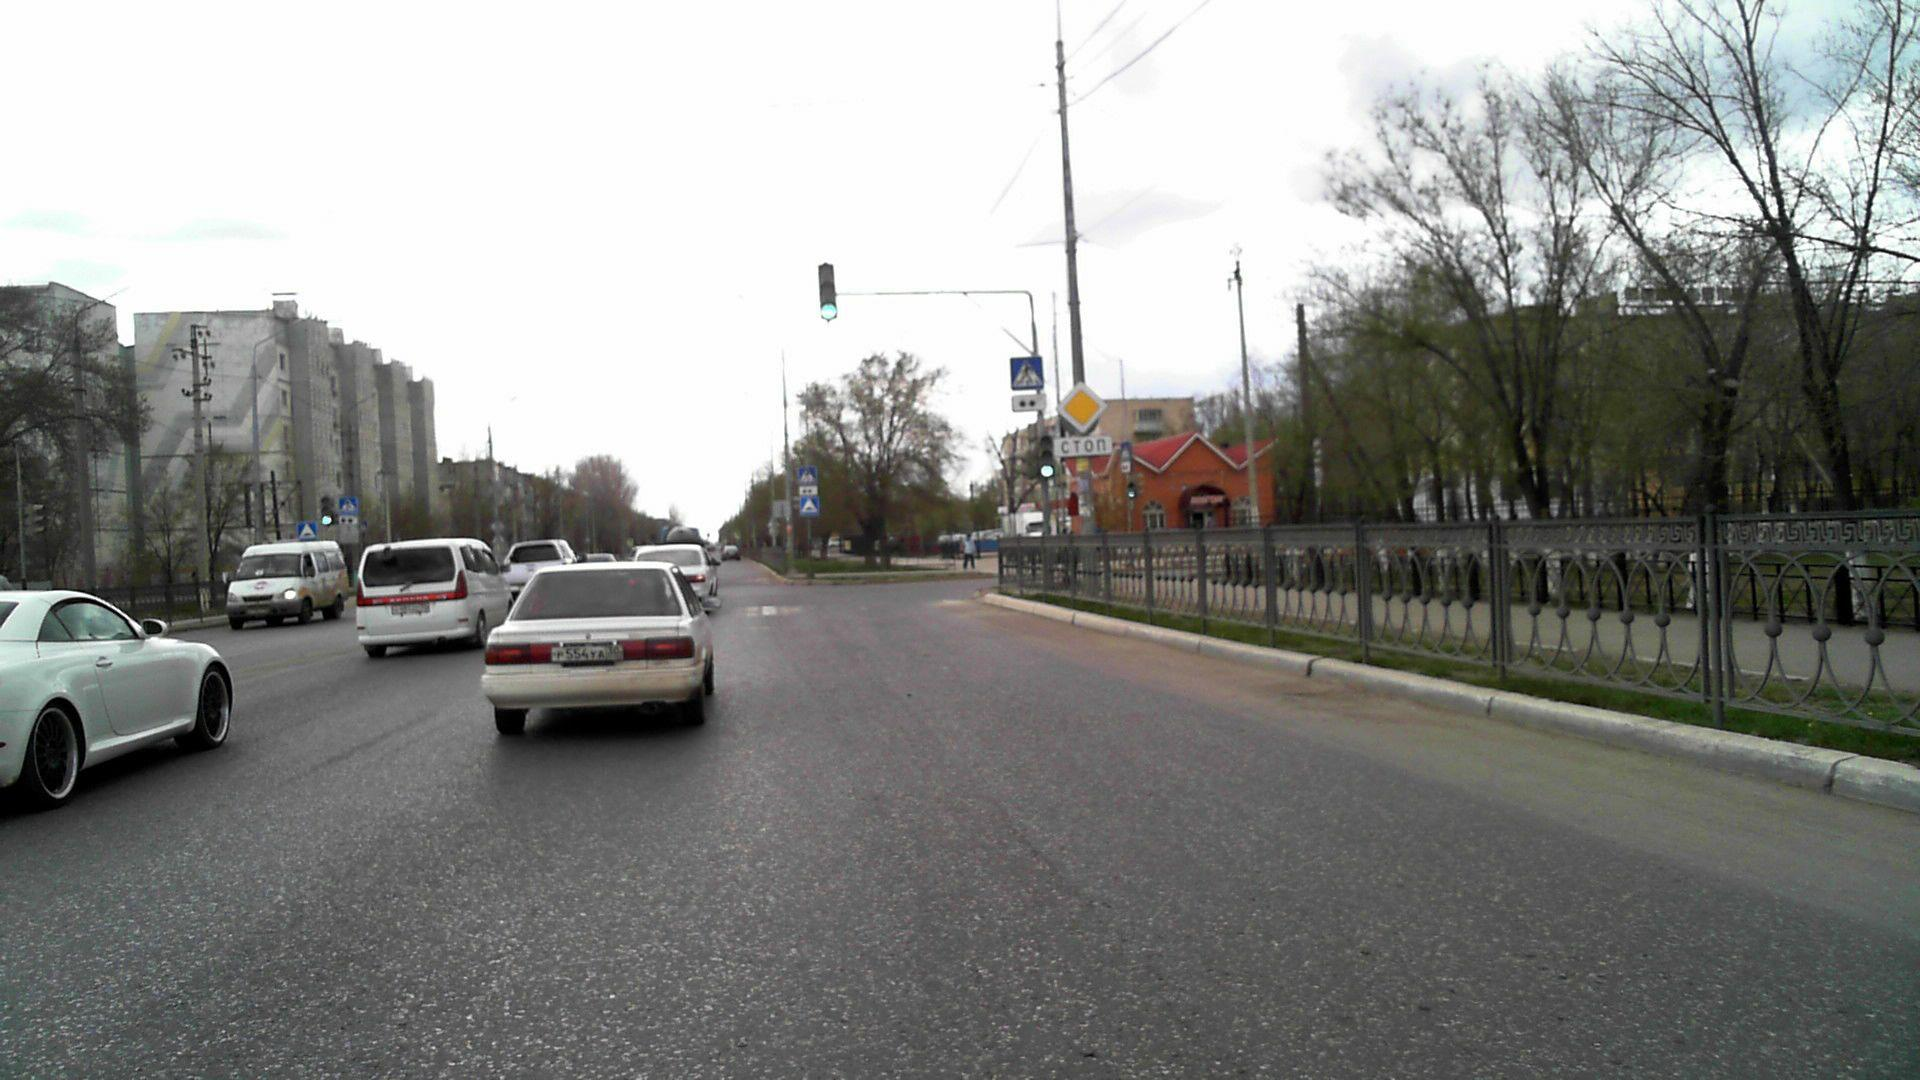2_1: (1055, 381, 1108, 434)
5_19_1: (1009, 355, 1046, 390), (799, 464, 818, 484)
5_19_2: (339, 492, 357, 514), (1120, 443, 1131, 460)
5_20: (800, 496, 820, 516), (297, 522, 316, 541)
6_16: (1055, 436, 1113, 456)
8_15: (1011, 393, 1047, 411), (799, 485, 819, 496), (1118, 460, 1131, 475), (339, 516, 359, 525)
